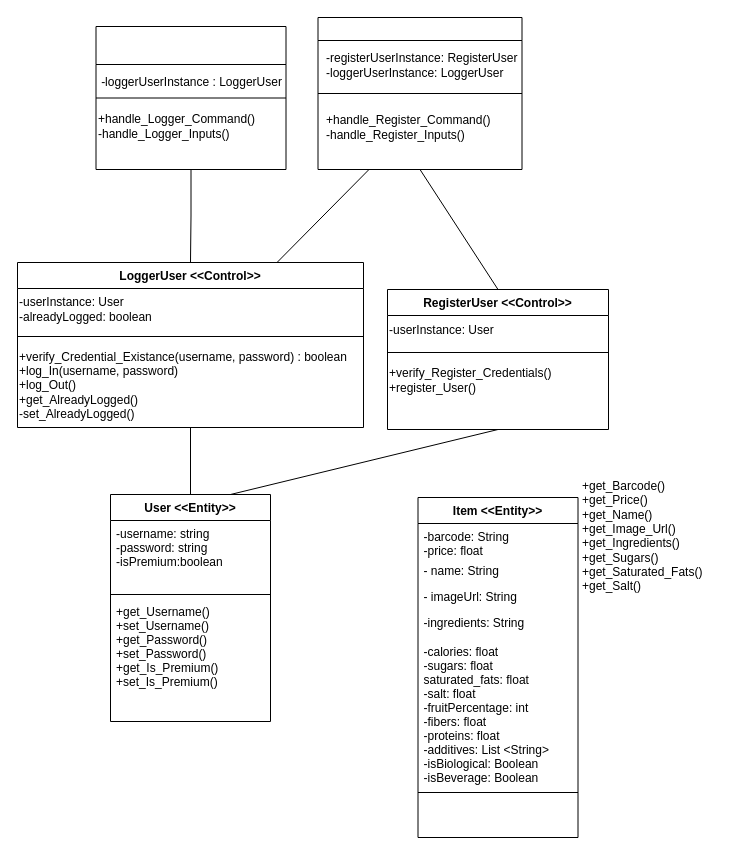
Image size: 735x855. Some labels were removed from this diagram. Here are the shapes that lost their labels. From the top down, the box of each, then its label:
(95, 26, 286, 170): Logger_User_form <<Boundary>>
(317, 16, 522, 170): RegisterForm <<Boundary>>
